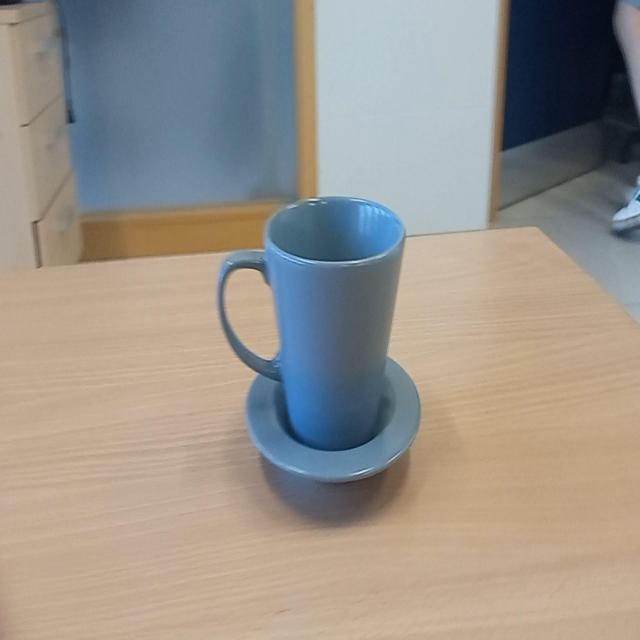cup: (216, 198, 408, 460)
